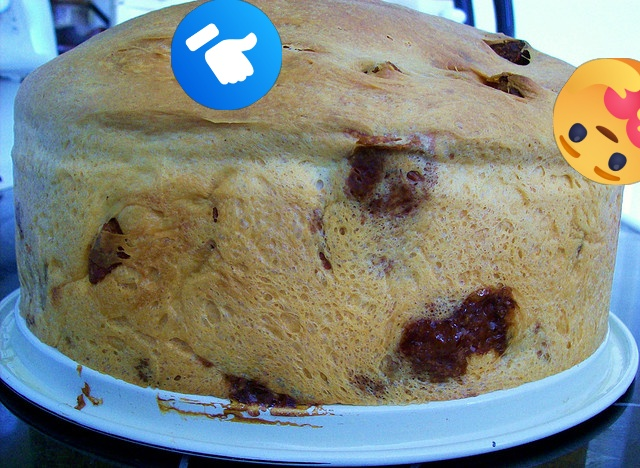care: (553, 58, 640, 185)
like: (171, 0, 282, 110)
